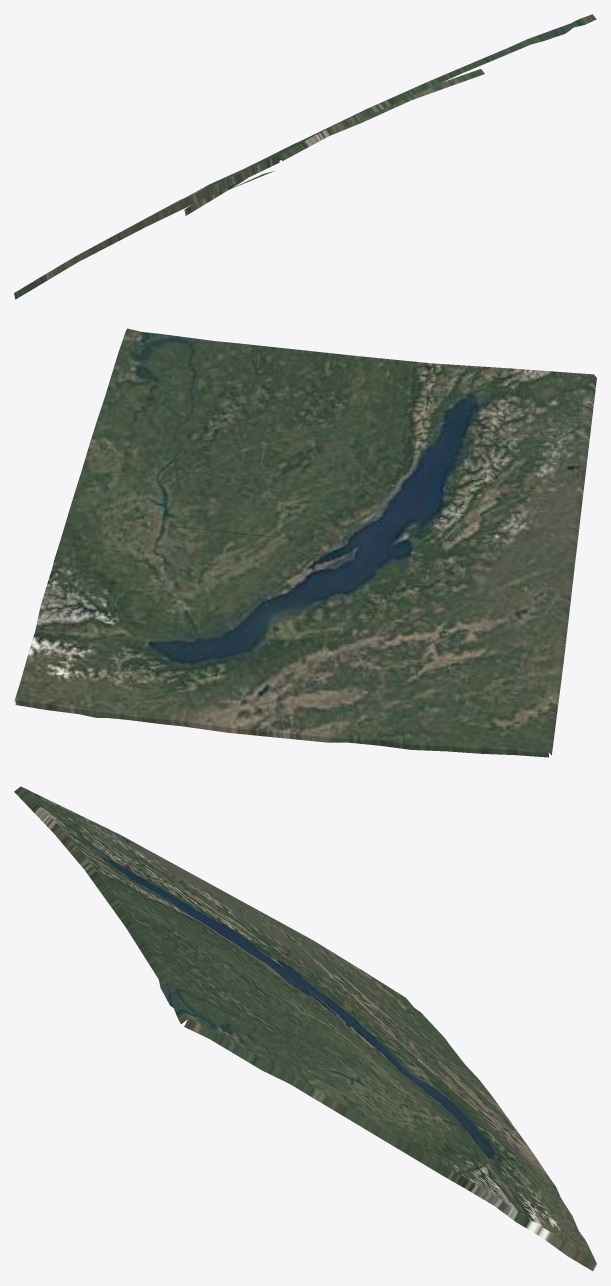
3 views of the same model, one above another, from view 1: azimuth 30°, elevation 25°; view 2: azimuth 150°, elevation 25°; view 3: azimuth 270°, elevation 25° (orthographic). The views are drawn at different scales.
Size of the model in its own units: 866827 by 387341 by 705930.
1 material, 1 textured.
